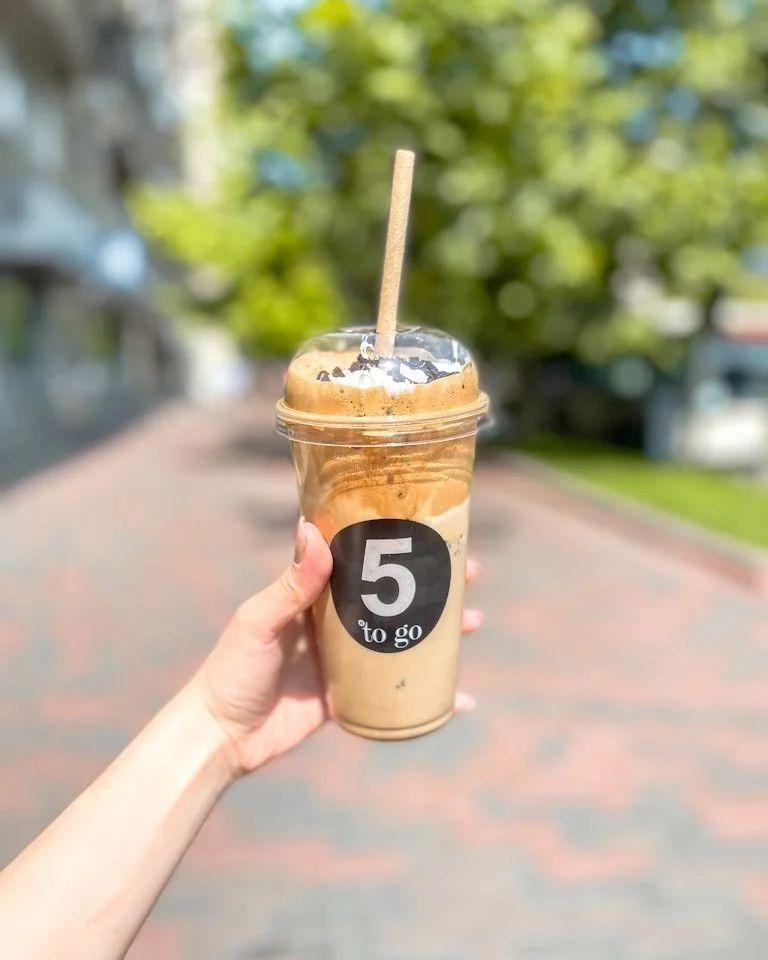cup-disposable: (275, 313, 497, 745)
